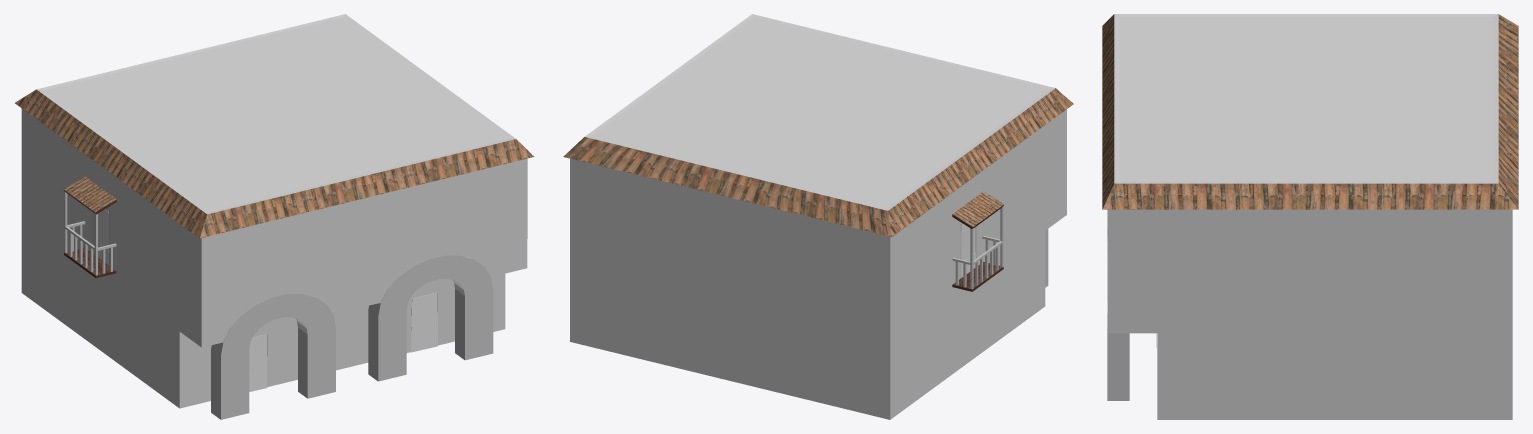
File: house_duble_blue.fbx
3 views of the same model, side by side, from view 1: azimuth 30°, elevation 25°; view 2: azimuth 150°, elevation 25°; view 3: azimuth 270°, elevation 25° (orthographic). The views are drawn at different scales.
Parts seen in each view (by area): view 1: Cube, Cube.003, Cube.001, Cube.022, Plane.001, Cube.002, Cube.018, Plane; view 2: Cube, Plane.001, Cube.018, Plane; view 3: Cube, Cube.003.
Boxes of the visible parts, x1=… form: Cube: x1=15, y1=14, x2=534, y2=408; Cube.003: x1=368, y1=255, x2=493, y2=381; Cube.001: x1=211, y1=294, x2=335, y2=419; Cube.022: x1=411, y1=292, x2=437, y2=352; Plane.001: x1=63, y1=176, x2=116, y2=214; Cube.002: x1=249, y1=334, x2=267, y2=391; Cube.018: x1=94, y1=209, x2=108, y2=264; Plane: x1=64, y1=247, x2=116, y2=278; Cube: x1=563, y1=14, x2=1073, y2=419; Plane.001: x1=952, y1=191, x2=1003, y2=228; Cube.018: x1=961, y1=224, x2=975, y2=277; Plane: x1=952, y1=262, x2=1003, y2=291; Cube: x1=1102, y1=14, x2=1518, y2=419; Cube.003: x1=1107, y1=237, x2=1129, y2=400.
Bounding box in the file's own units: 865 × 486 × 789.
